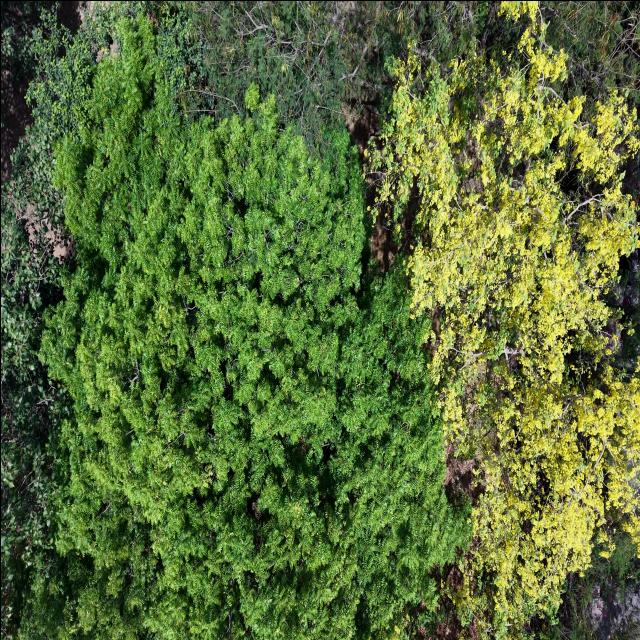DRY_AREA: (1, 68, 32, 181)
VEGETATION_TREE: (1, 1, 639, 639), (41, 18, 468, 639), (370, 24, 639, 638), (1, 5, 122, 638), (1, 15, 87, 638), (190, 1, 529, 147), (195, 1, 403, 149), (1, 194, 57, 635), (541, 1, 639, 104), (548, 530, 639, 639), (1, 1, 52, 181)
